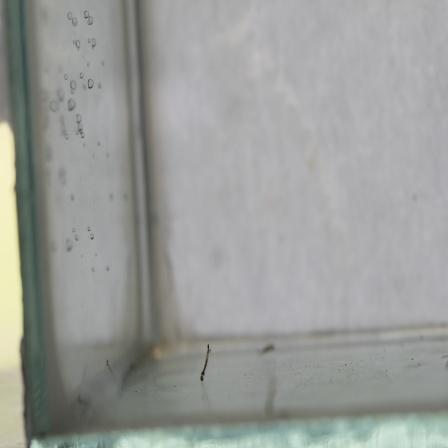Jentik-Nyamuk: (198, 343, 214, 386)
